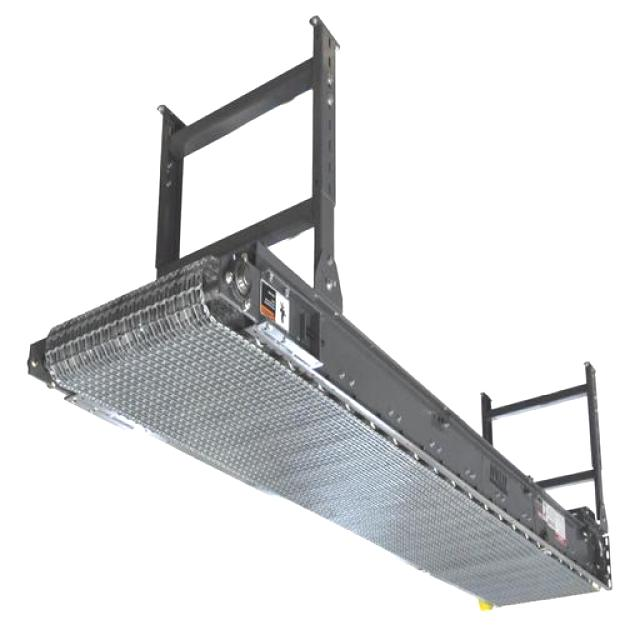conveyor: (36, 250, 604, 607)
